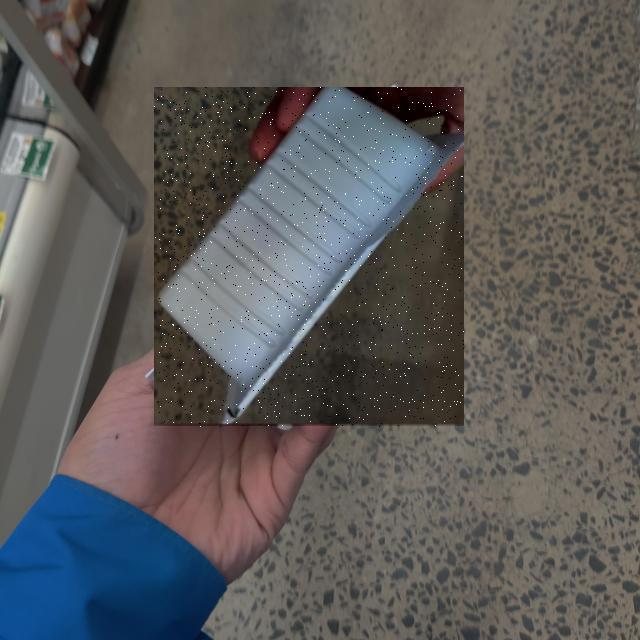Tofu: (155, 88, 465, 428)
